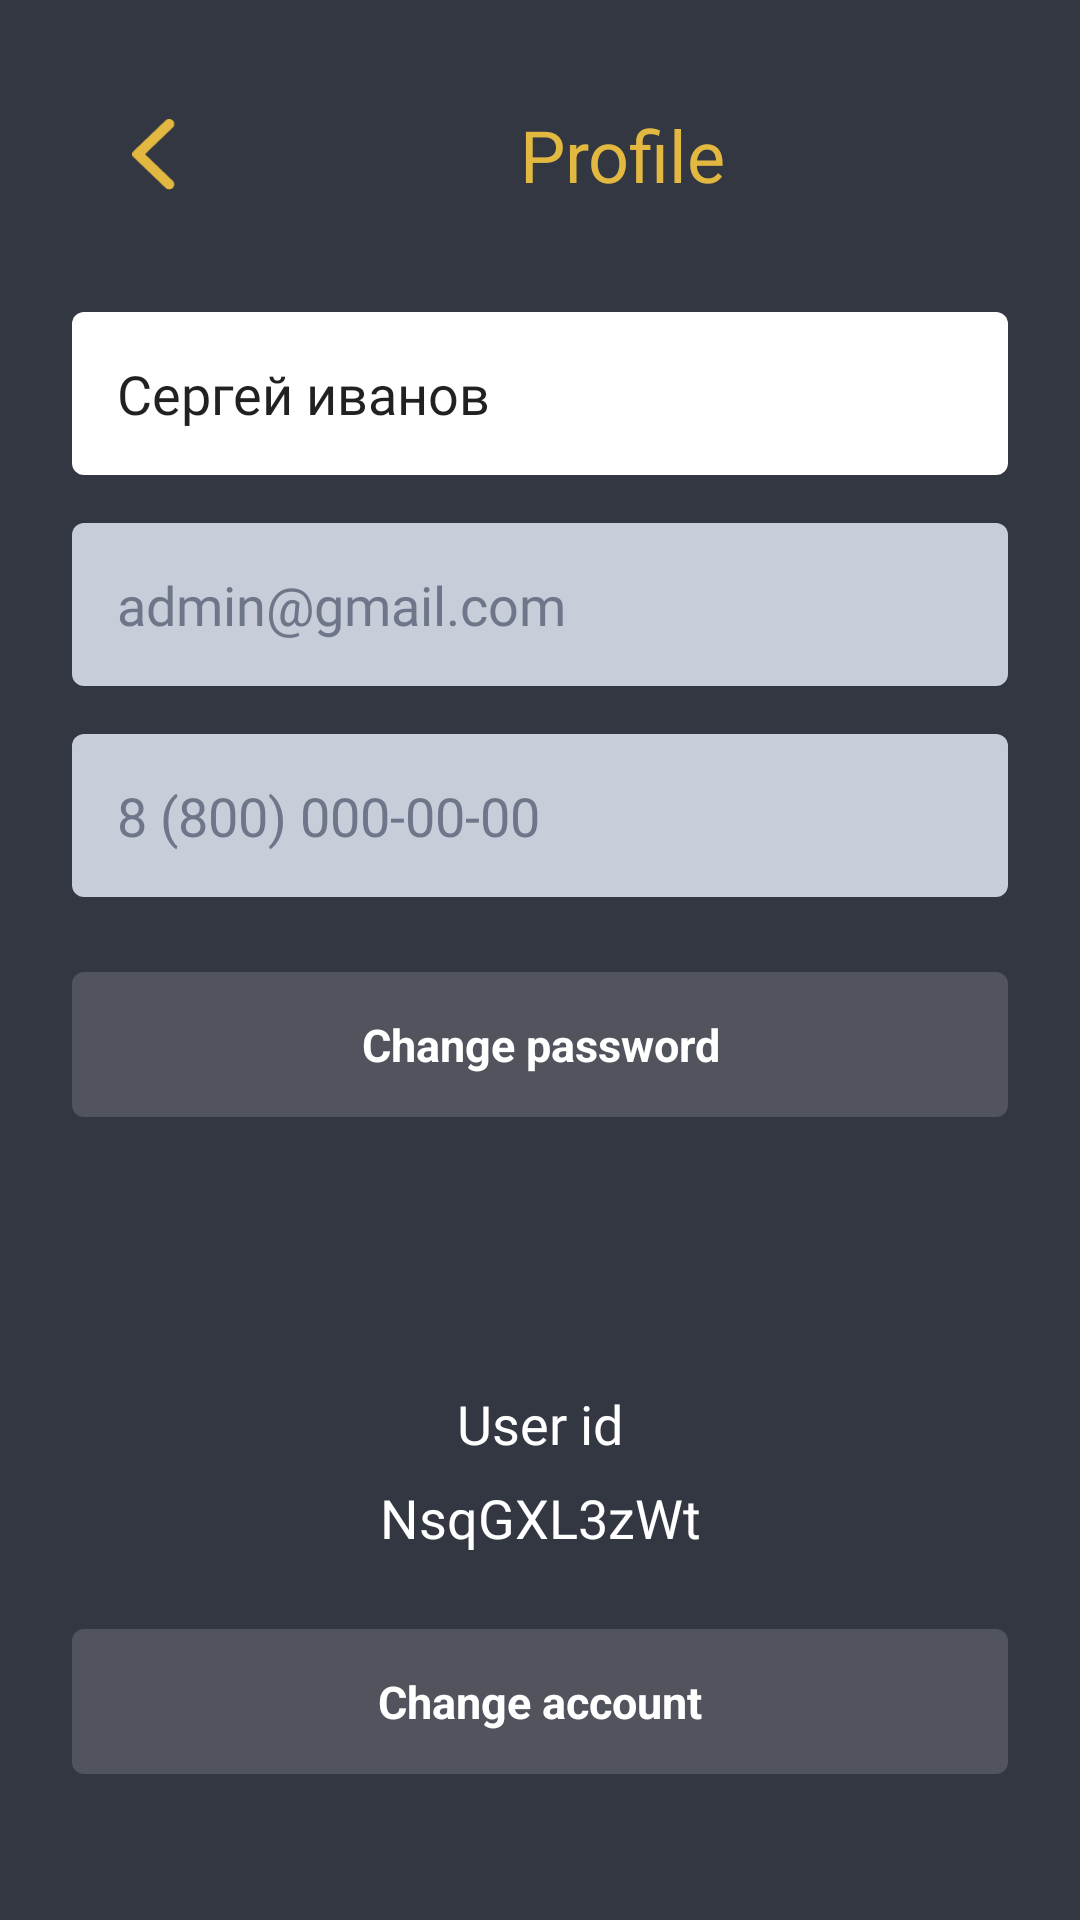

Named icons in this screenshot (1080px x 1920px) and their centers, [x,y]:
back: [153,154]
